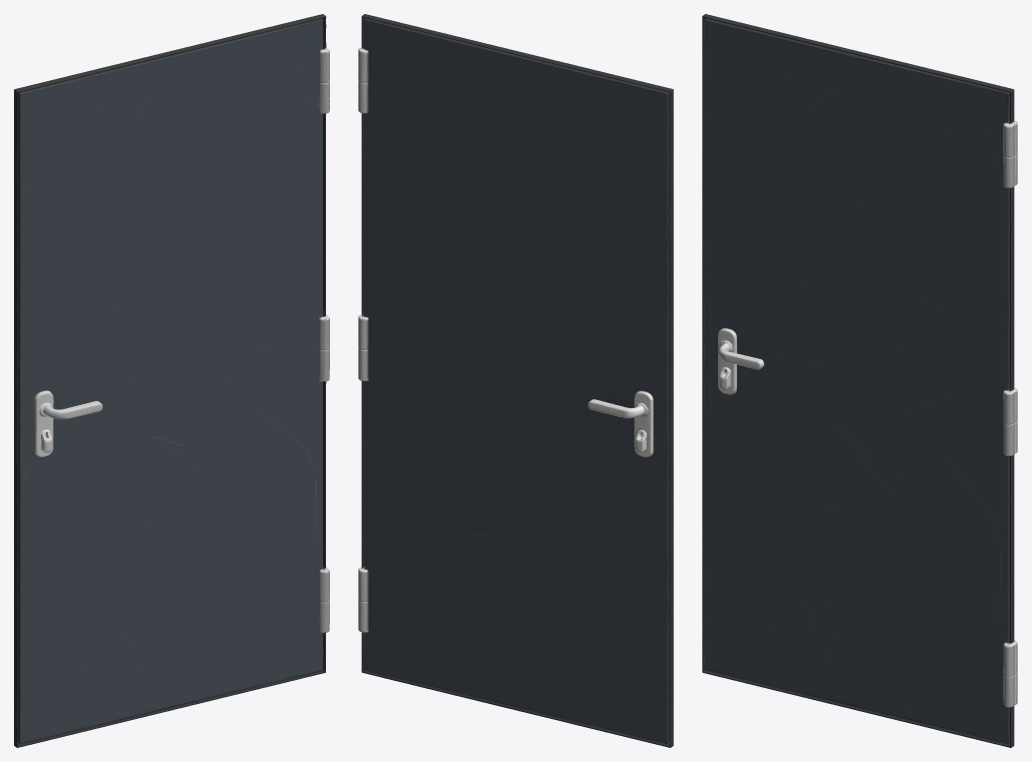
The model's file is Meshy_AI_Iron_Door_20261109_image-to-3d-texture.fbx.
3 renders of one model, left to right at view 1: azimuth 30°, elevation 25°; view 2: azimuth 150°, elevation 25°; view 3: azimuth 330°, elevation 25°, orthographic.
Parts seen in each view (by area): view 1: Mesh_0; view 2: Mesh_0; view 3: Mesh_0.
Boxes of the visible parts, <box> form: Mesh_0: <box>14,14,329,747</box>; Mesh_0: <box>358,14,673,747</box>; Mesh_0: <box>702,14,1017,747</box>.
Bounding box in the file's own units: 94.66 × 190 × 15.06.
1 material, 1 textured.
